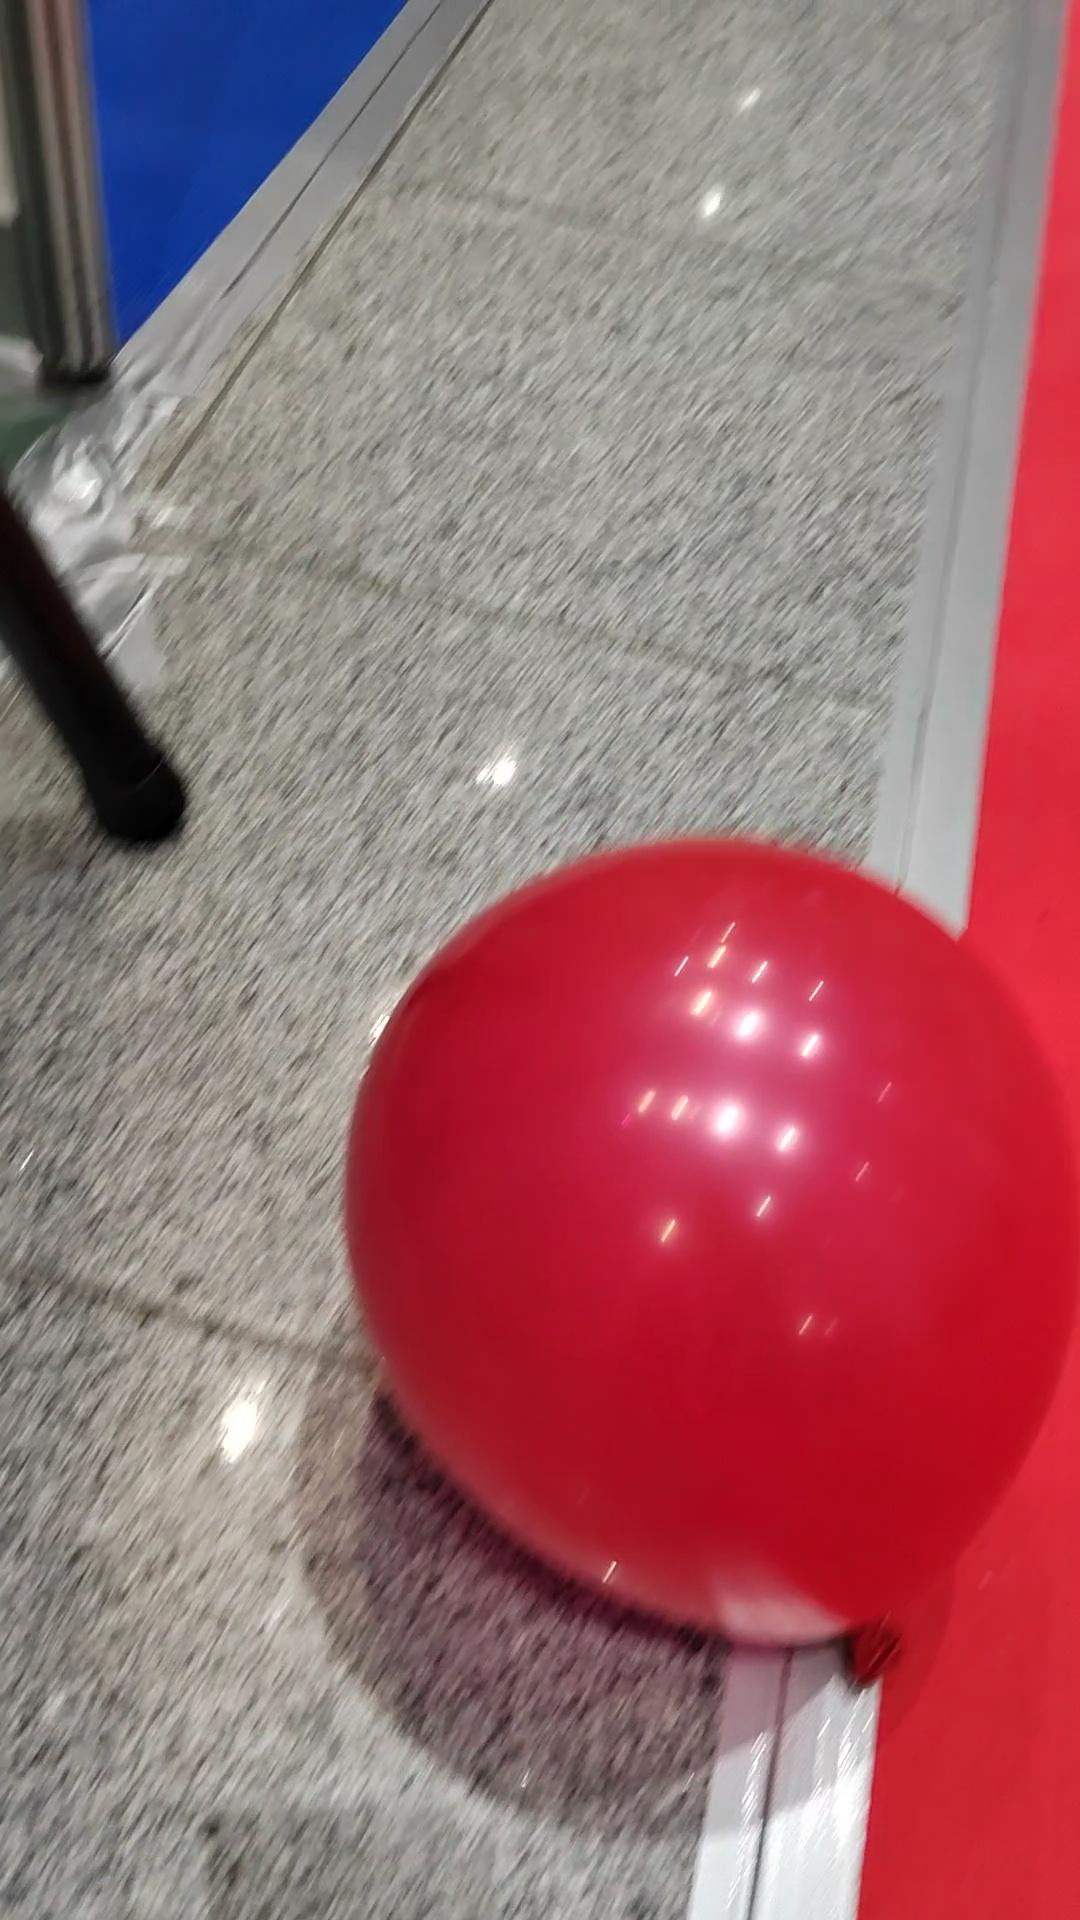red: (336, 827, 1077, 1667)
